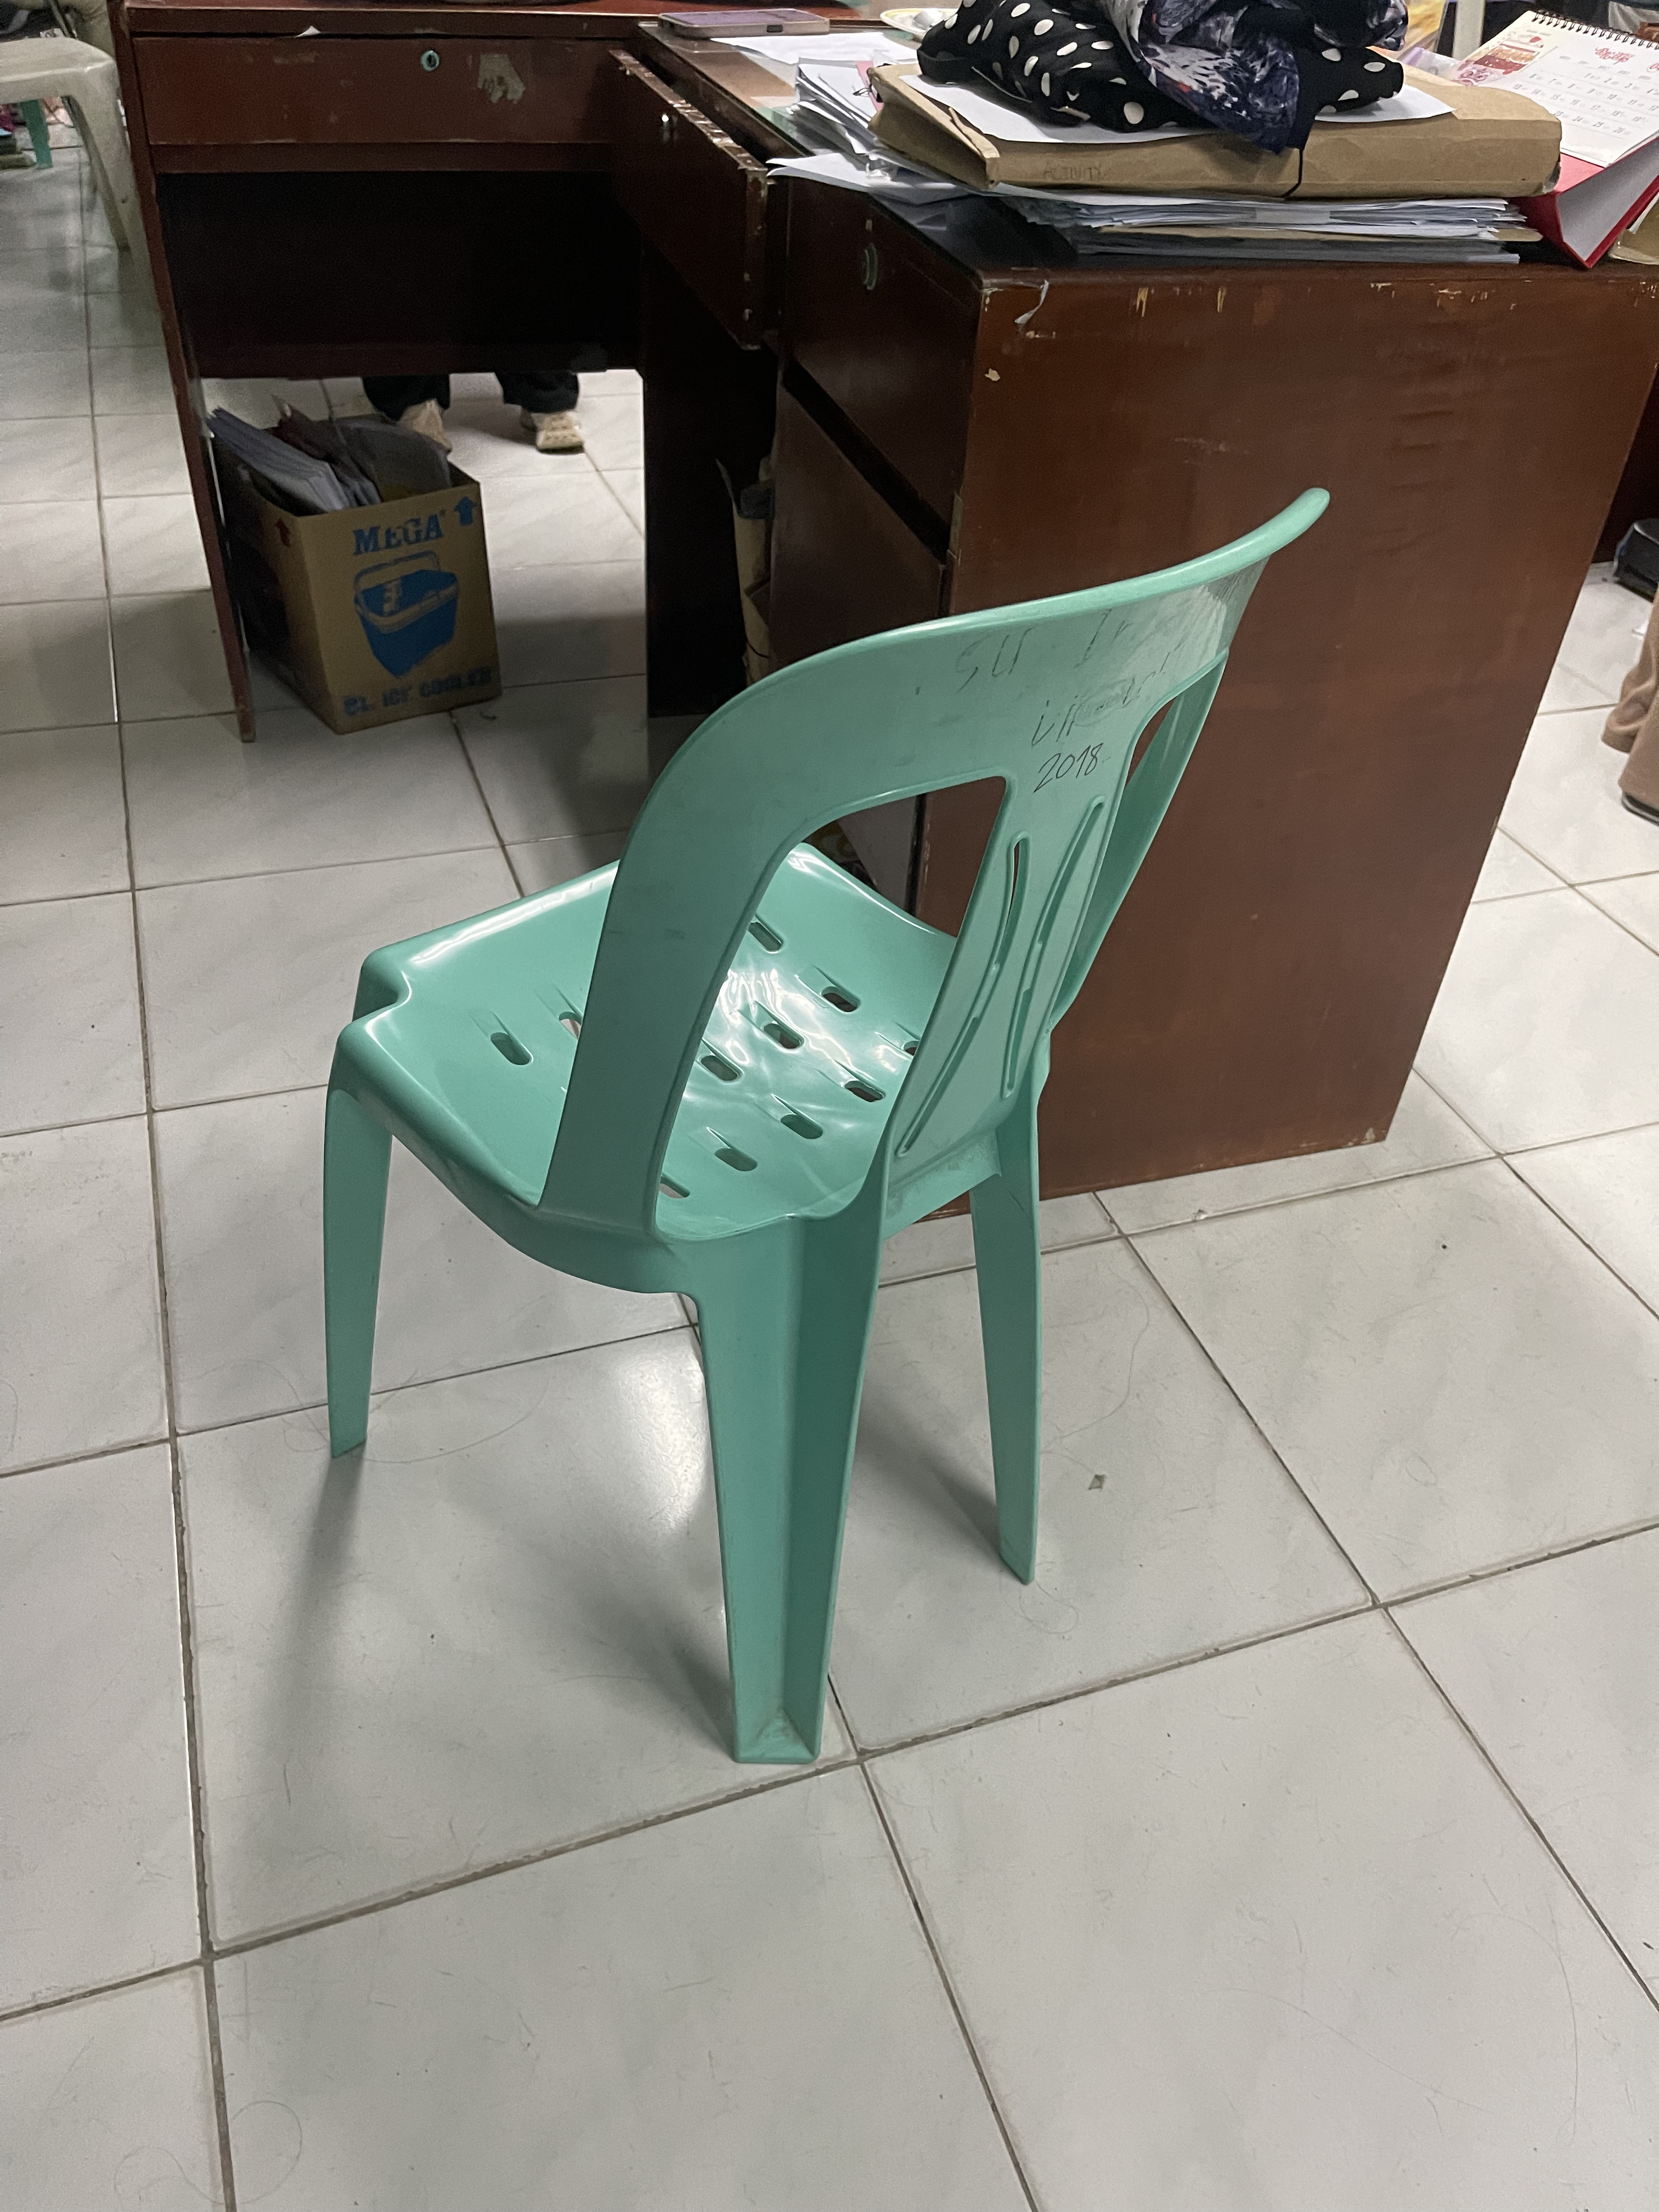chair2: (308, 481, 1351, 1797)
